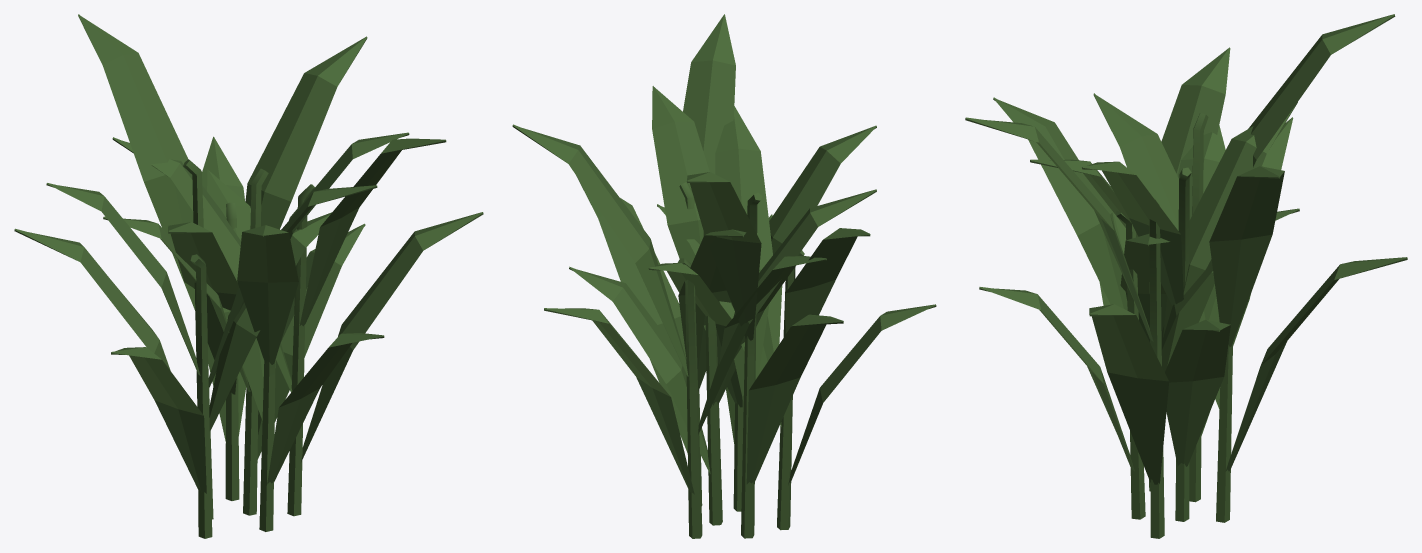
File: crop_wheat_growing.glb
3 views of the same model, side by side, from view 1: azimuth 30°, elevation 25°; view 2: azimuth 150°, elevation 25°; view 3: azimuth 270°, elevation 25° (orthographic). The views are drawn at different scales.
Visible parts, largest first — view 1: wheat_leaf_0_0; view 2: wheat_leaf_0_0; view 3: wheat_leaf_0_0.
Part boxes in pixels (<box>): wheat_leaf_0_0: <box>14,14,483,538</box>; wheat_leaf_0_0: <box>512,14,936,538</box>; wheat_leaf_0_0: <box>965,14,1407,538</box>.
Size of the model in its own units: 0.7078 by 0.802 by 0.6865.
